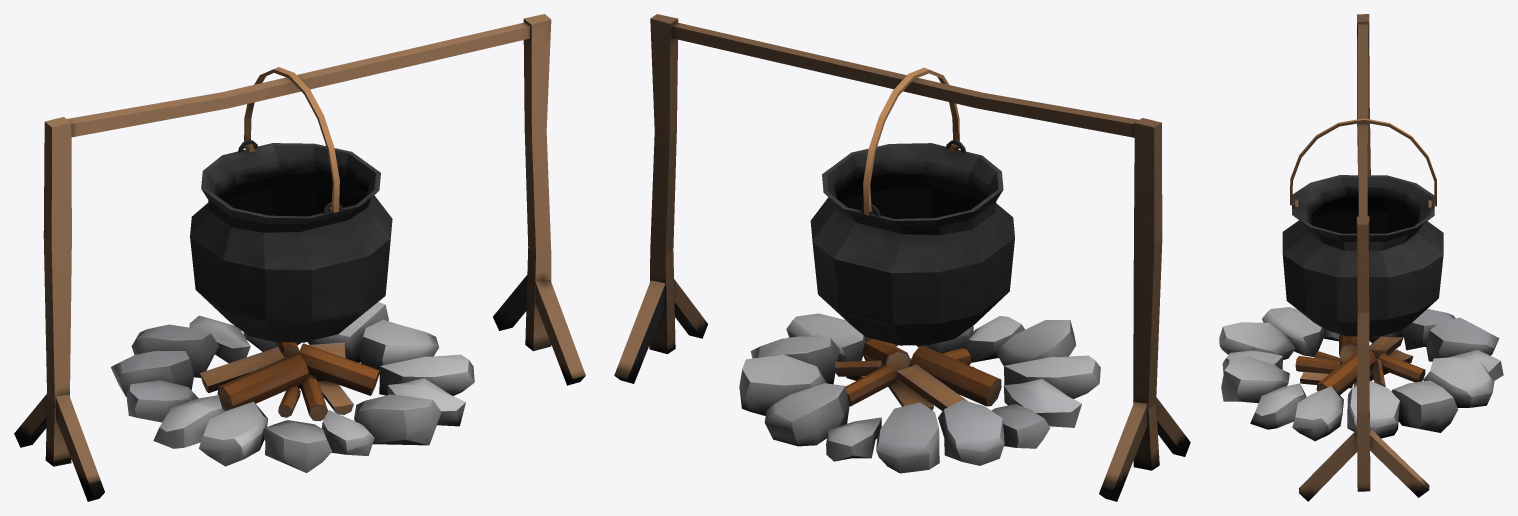
The model's file is Camping_Stove.fbx.
The picture shows the model from 3 angles, left to right: view 1: azimuth 30°, elevation 25°; view 2: azimuth 150°, elevation 25°; view 3: azimuth 270°, elevation 25°; orthographic projection. The views are drawn at different scales.
Visible parts, largest first — view 1: Camping_Stove; view 2: Camping_Stove; view 3: Camping_Stove.
Part boxes in pixels (x1=…): Camping_Stove: x1=14, y1=14, x2=585, y2=501; Camping_Stove: x1=614, y1=14, x2=1190, y2=501; Camping_Stove: x1=1219, y1=14, x2=1503, y2=501.
Bounding box in the file's own units: 441 × 299 × 266.
1 material, 1 textured.
